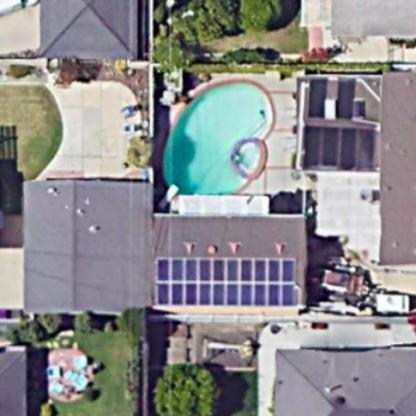solar_panel: (146, 248, 306, 323), (303, 76, 385, 173)
swimming_pool: (144, 67, 275, 209)
